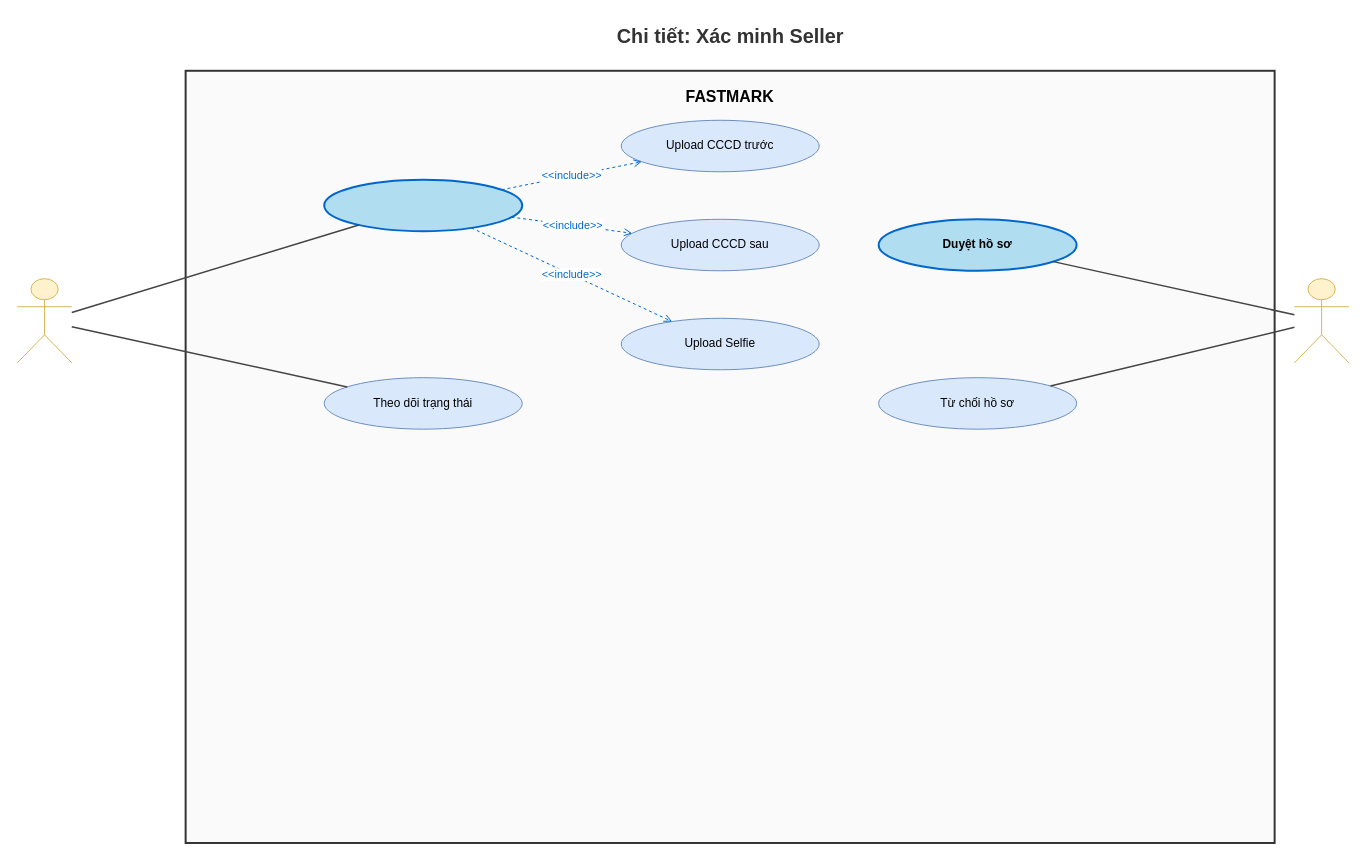
The diagram is 1366 pixels wide and 860 high, and some of its shapes have lost their labels. Here are the shapes that lost their labels. From the top down, the centre of each, then its label:
the point at 423,205: Gửi hồ sơ xác minh
the point at 44,320: Seller
the point at 1321,320: Admin
